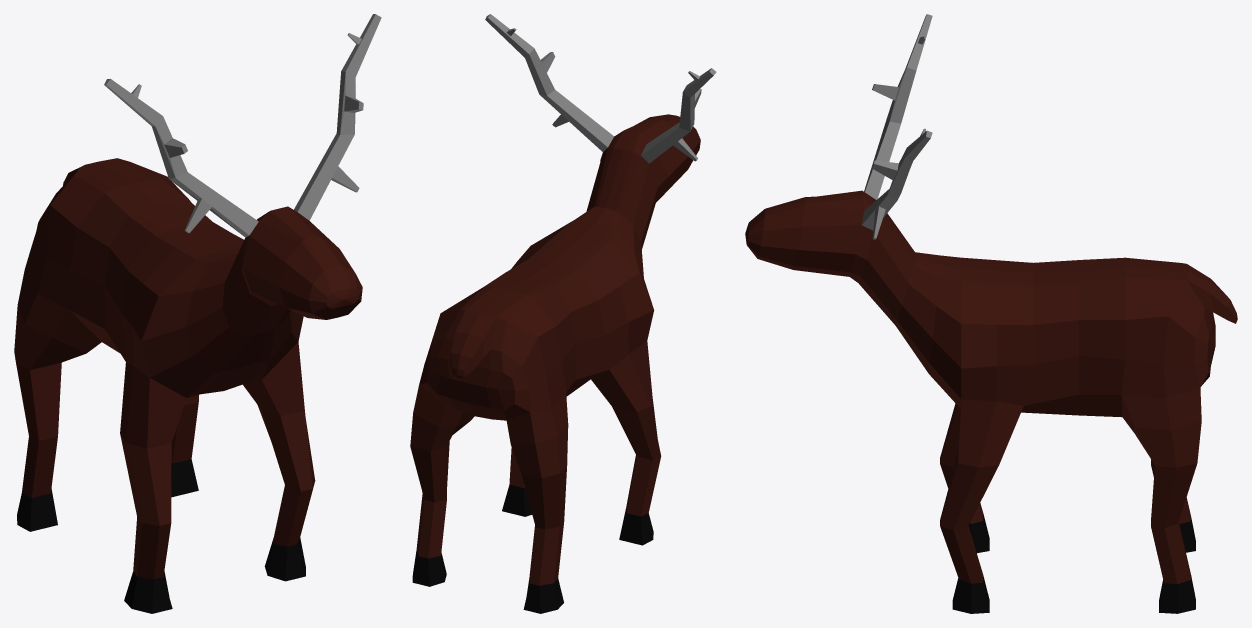
Rendered from 03_deer.obj.
The picture shows the model from 3 angles, left to right: view 1: azimuth 30°, elevation 25°; view 2: azimuth 150°, elevation 25°; view 3: azimuth 270°, elevation 25°; orthographic projection. The views are drawn at different scales.
Parts seen in each view (by area): view 1: Cube_0, Cube_2, Cube_1; view 2: Cube_0, Cube_2, Cube_1; view 3: Cube_0, Cube_2, Cube_1.
Part boxes in pixels (box(x1,y1,x2,y2)): Cube_0: box(14, 158, 362, 579); Cube_2: box(104, 14, 381, 237); Cube_1: box(17, 459, 305, 613); Cube_0: box(410, 114, 700, 585); Cube_2: box(485, 14, 716, 163); Cube_1: box(412, 484, 653, 613); Cube_0: box(745, 190, 1237, 584); Cube_2: box(862, 14, 932, 239); Cube_1: box(952, 514, 1195, 613).
Bounding box in the file's own units: 3.49 × 6.77 × 6.
